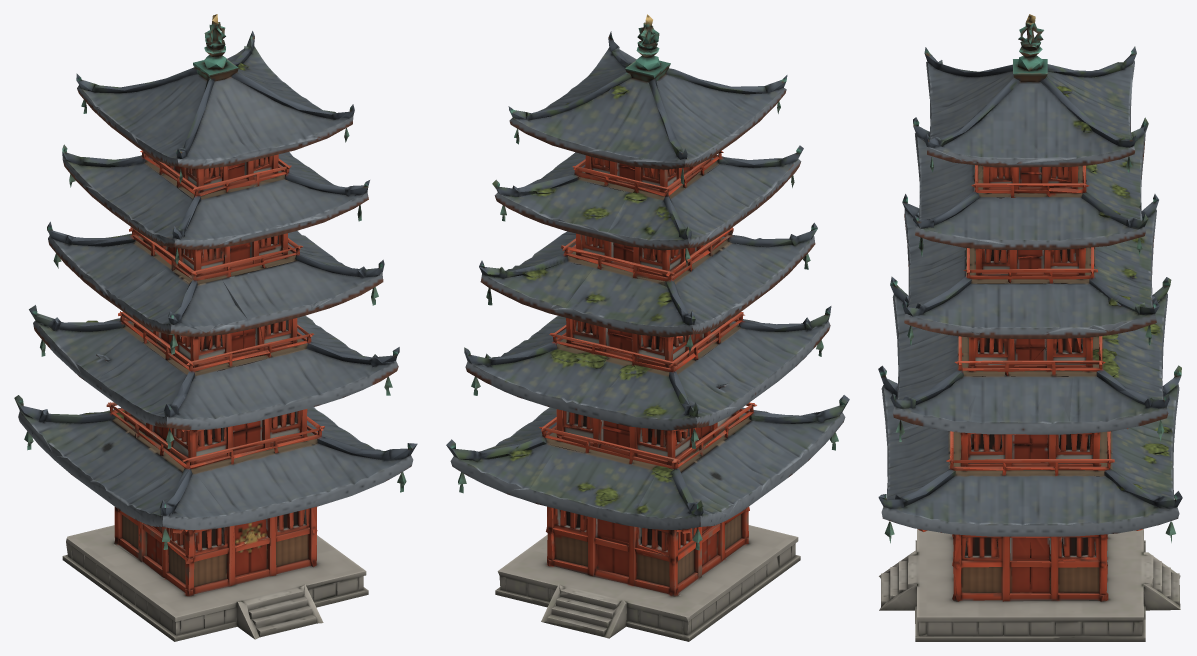
Rendered from pagoda.glb.
3 renders of one model, left to right at view 1: azimuth 30°, elevation 25°; view 2: azimuth 150°, elevation 25°; view 3: azimuth 270°, elevation 25°, orthographic. The views are drawn at different scales.
Parts seen in each view (by area): view 1: pagoda_LOD0; view 2: pagoda_LOD0; view 3: pagoda_LOD0.
Part boxes in pixels (x1,y1,x2,y2): pagoda_LOD0: [14, 14, 417, 641]; pagoda_LOD0: [446, 14, 849, 641]; pagoda_LOD0: [878, 14, 1182, 641].
Size of what is drawn, in the model's own units: 8.59 by 18.04 by 8.59.
8 materials, 8 textured.
